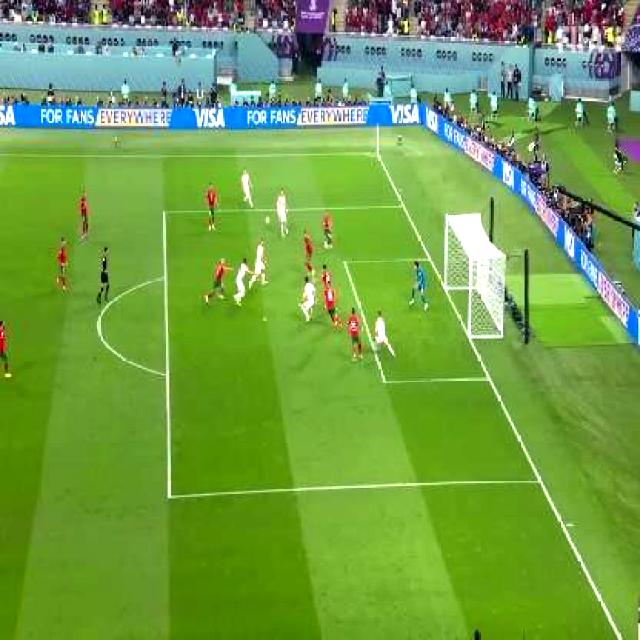bigarea_bottom_inner: (158, 482, 180, 508)
bigarea_bottom_outter: (529, 468, 548, 492)
bigarea_top_inner: (156, 202, 170, 220)
bigarea_top_outter: (396, 197, 410, 214)
bottom_arc_area_intersection: (157, 363, 174, 385)
corner: (368, 146, 384, 162)
smallarea_bottom_inner: (372, 364, 392, 394)
smallarea_bottom_outter: (477, 363, 498, 389)
smallarea_top_inner: (337, 251, 351, 271)
smallarea_top_outter: (421, 246, 437, 268)
top_arc_area_intersection: (157, 265, 172, 286)
